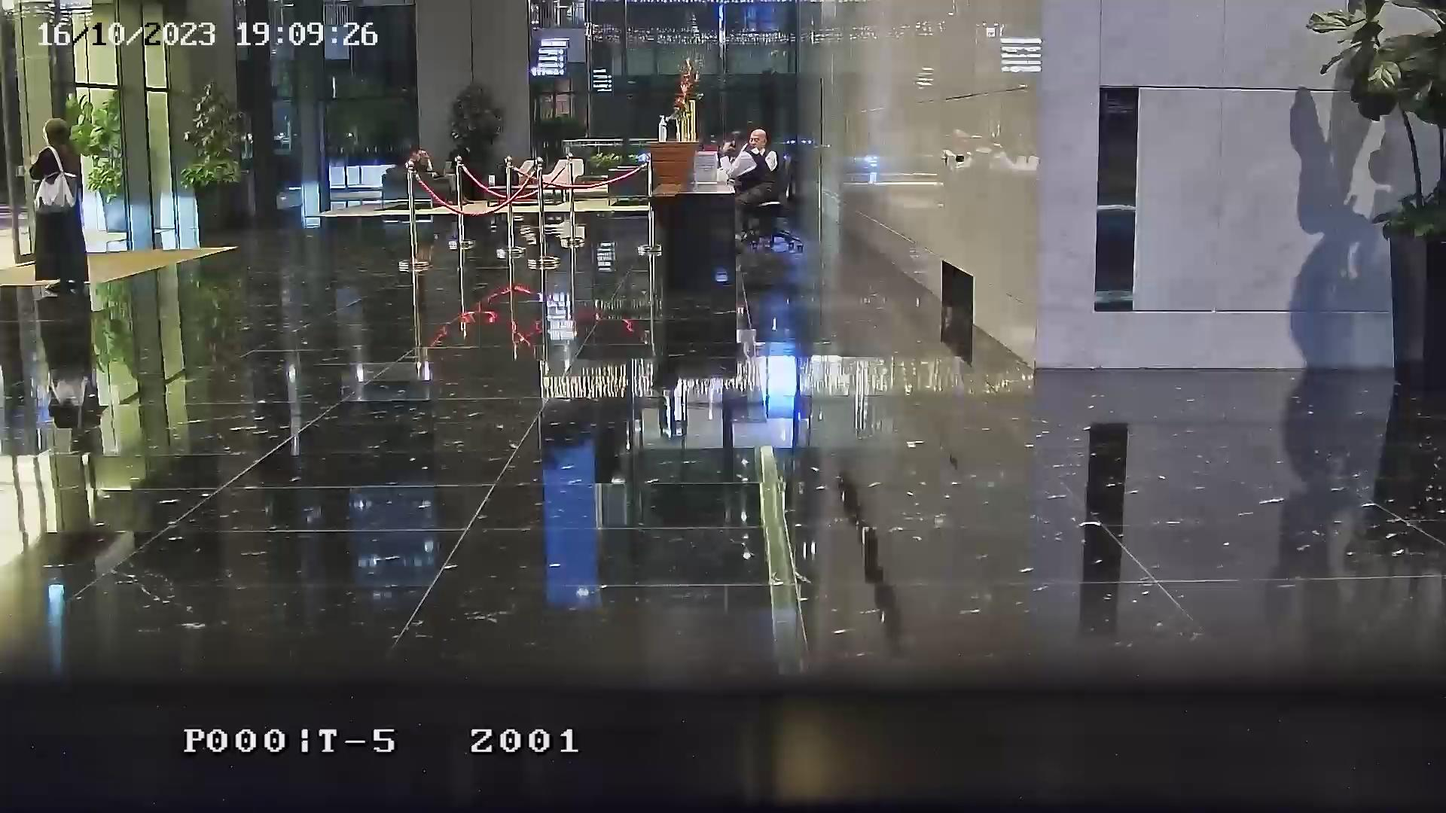person: (29, 117, 88, 283), (718, 129, 779, 231), (745, 128, 778, 169), (405, 146, 436, 172)
